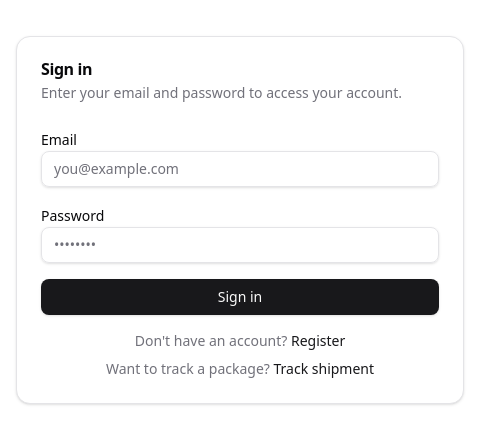
Test: LoginPage › shows validation error for invalid email
Type "not-an-email" into the field labelled "Email".
click(240, 169); type("not-an-email")  # box [41,151,439,187]
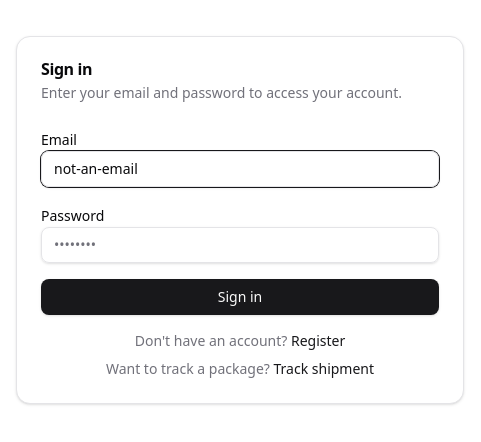
Click the button "Sign in".
click(240, 297)  # box [41,279,439,315]
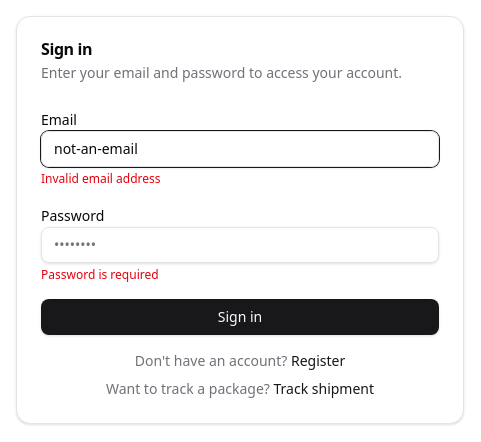
Now the text "Invalid email address" is shown, box [41,170,160,187]
